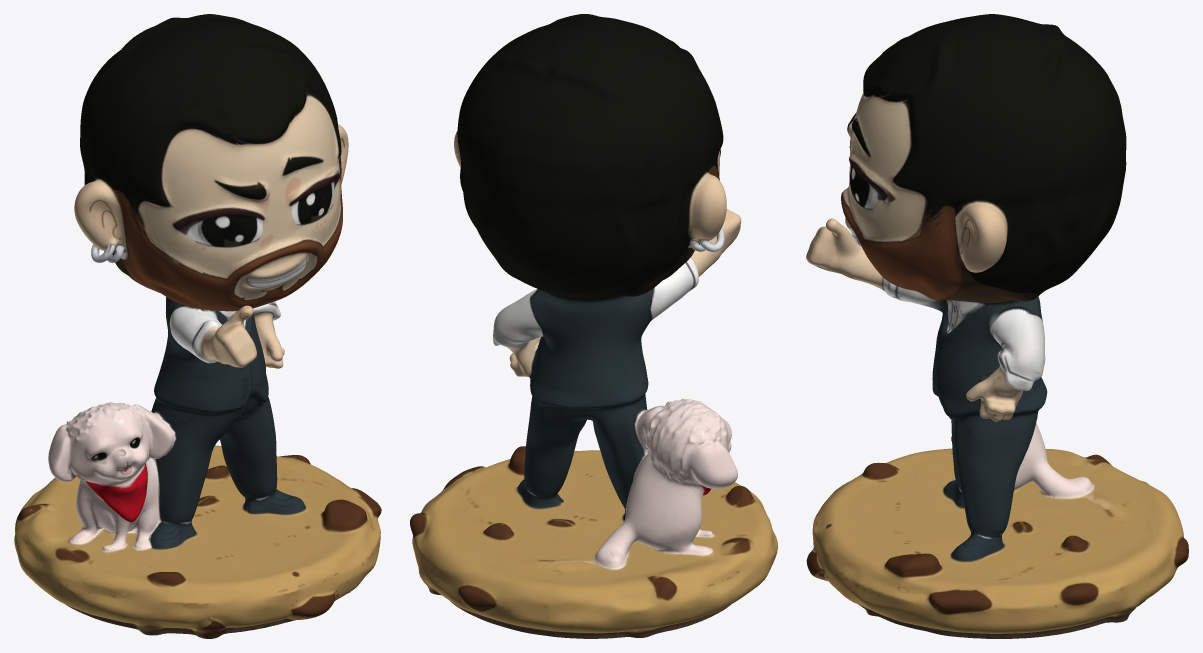
Rendered from Meshy_AI_MeStatue.fbx.
The picture shows the model from 3 angles, left to right: view 1: azimuth 30°, elevation 25°; view 2: azimuth 150°, elevation 25°; view 3: azimuth 270°, elevation 25°; orthographic projection. The views are drawn at different scales.
Visible parts, largest first — view 1: Mesh_0; view 2: Mesh_0; view 3: Mesh_0.
Part boxes in pixels (<box>): Mesh_0: <box>14,14,381,638</box>; Mesh_0: <box>410,14,777,638</box>; Mesh_0: <box>806,14,1188,638</box>.
Size of the model in its own units: 117 by 190 by 121.
Materials: 1 (1 with a texture image).
